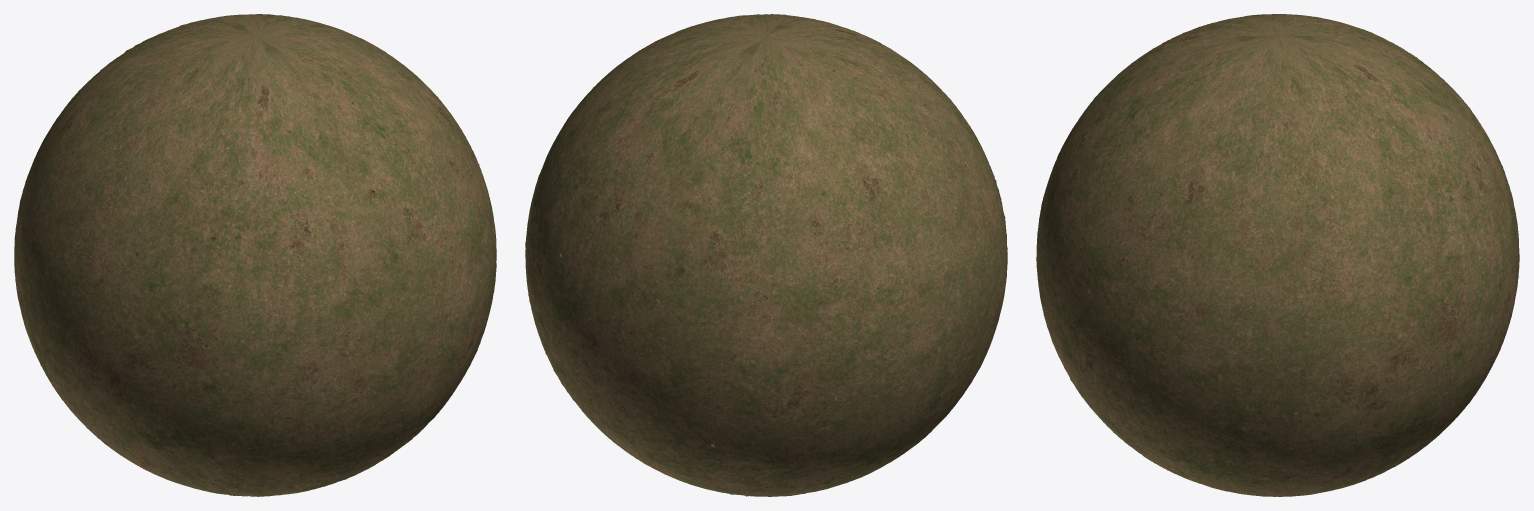
Rendered from grass_ground_2k.gltf.
3 renders of one model, left to right at view 1: azimuth 30°, elevation 25°; view 2: azimuth 150°, elevation 25°; view 3: azimuth 270°, elevation 25°, orthographic.
Parts seen in each view (by area): view 1: sphere_gltf; view 2: sphere_gltf; view 3: sphere_gltf.
Part boxes in pixels (x1=…): sphere_gltf: x1=14, y1=14, x2=496, y2=496; sphere_gltf: x1=525, y1=14, x2=1007, y2=496; sphere_gltf: x1=1036, y1=14, x2=1519, y2=496.
Bounding box in the file's own units: 2.51 × 2.51 × 2.51.
Materials: 1 (1 with a texture image).
